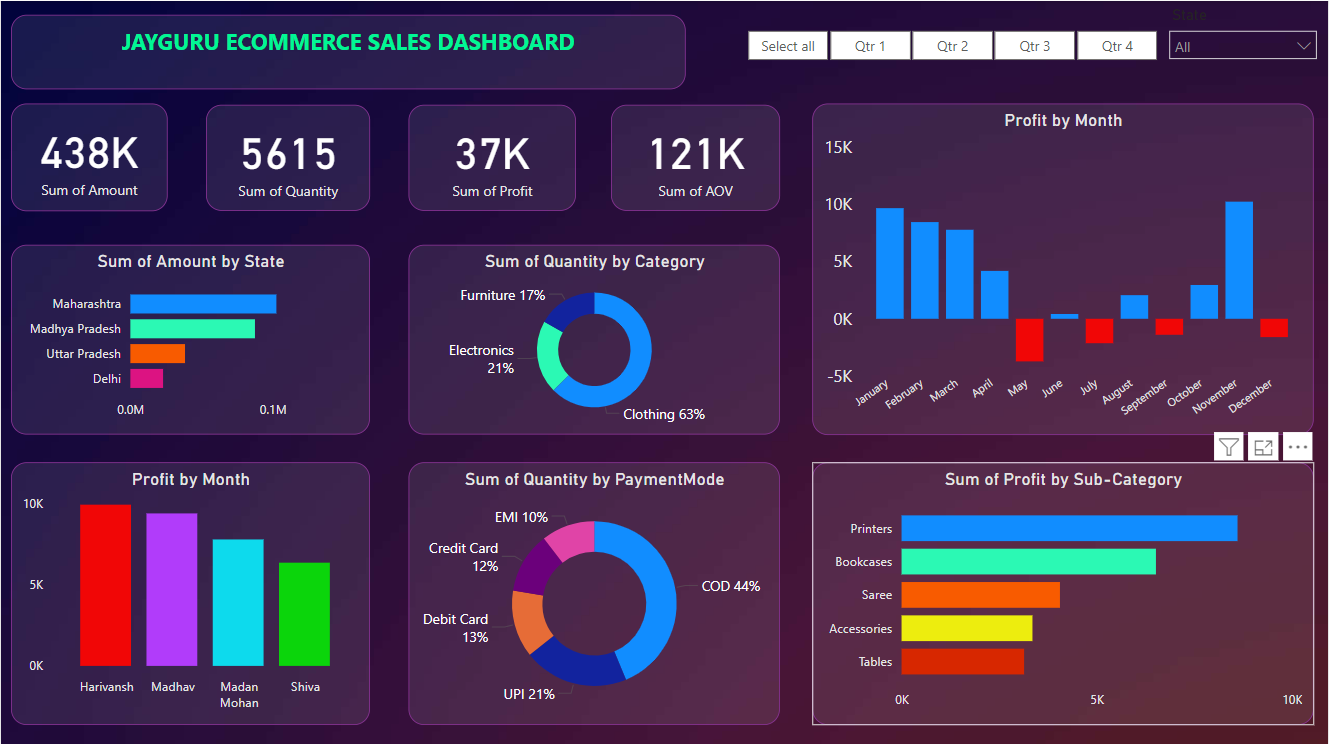

What the dashboard file says about the page in this screenshot:
{"tool":"powerbi","page":{"name":"Page 1","canvas":[1280,720],"ordinal":0},"visuals":[{"type":"textbox","box":[9.7,13.3,651.5,72.4],"z":0},{"type":"columnChart","title":"Profit by Month","fields":{"Y":["Details.Profit"],"Category":["Orders.Order Date.Variation.Date Hierarchy.Month"]},"box":[783,98.9,483.8,319.7],"z":1000},{"type":"barChart","fields":{"Category":["Details.Sub-Category"],"Y":["Details.Profit"]},"box":[783,445.2,483.8,253.4],"z":2000},{"type":"donutChart","fields":{"Y":["Details.Quantity"],"Category":["Details.Category"]},"box":[393.3,235.3,358.3,183.4],"z":3000},{"type":"donutChart","fields":{"Y":["Details.Quantity"],"Category":["Details.PaymentMode"]},"box":[393.3,445.2,358.3,253.4],"z":4000},{"type":"card","fields":{"Values":["Details.Amount"]},"box":[9.7,98.9,150.8,103.8],"z":5000},{"type":"card","fields":{"Values":["Details.Quantity"]},"box":[197.9,100.1,158,102.5],"z":6000},{"type":"card","fields":{"Values":["Details.Profit"]},"box":[393.3,100.1,161.7,102.5],"z":7000},{"type":"card","fields":{"Values":["Details.AOV"]},"box":[588.7,100.1,162.9,102.5],"z":8000},{"type":"barChart","fields":{"Category":["Orders.State"],"Y":["Details.Amount"]},"box":[9.7,235.3,346.2,183.4],"z":9000},{"type":"columnChart","title":"Profit by Month","fields":{"Y":["Details.Amount"],"Category":["Orders.CustomerName"]},"box":[9.7,445.2,346.2,253.4],"z":10000},{"type":"slicer","fields":{"Values":["Orders.Order Date.Variation.Date Hierarchy.Quarter"]},"box":[694.9,21.7,445.2,42.2],"z":11000},{"type":"slicer","fields":{"Values":["Orders.State"]},"box":[1117.2,0,162.9,85.7],"z":12000}]}

Visuals, with their boxes in screenshot pixels (x1, y1, x2, y2), scaled from the page's 1280x720 canvas onto the 1329x744 screenshot:
textbox: 10,14,687,89
"Profit by Month" columnChart: 813,102,1315,433
barChart - Details.Sub-Category x Details.Profit: 813,460,1315,722
donutChart - Details.Quantity x Details.Category: 408,243,780,433
donutChart - Details.Quantity x Details.PaymentMode: 408,460,780,722
card - Details.Amount: 10,102,167,209
card - Details.Quantity: 205,103,370,209
card - Details.Profit: 408,103,576,209
card - Details.AOV: 611,103,780,209
barChart - Orders.State x Details.Amount: 10,243,370,433
"Profit by Month" columnChart: 10,460,370,722
slicer - Orders.Order Date.Variation.Date Hierarchy.Quarter: 722,22,1184,66
slicer - Orders.State: 1160,0,1328,89
